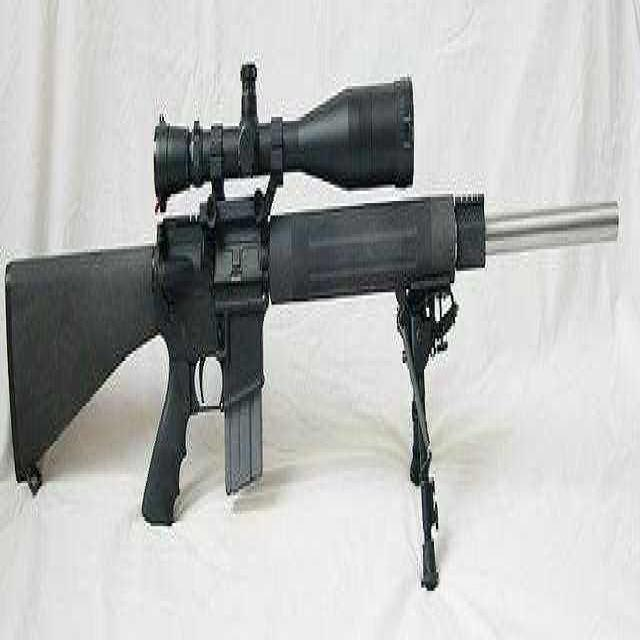heavyweapon: (6, 32, 623, 623)
